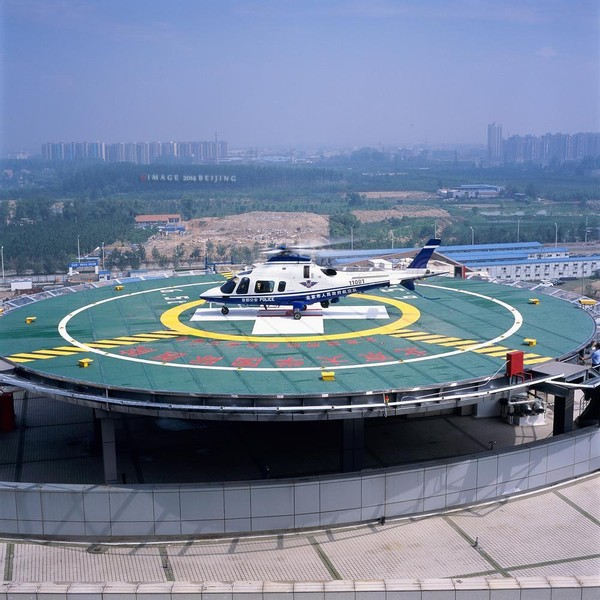Apron: (158, 293, 421, 345)
